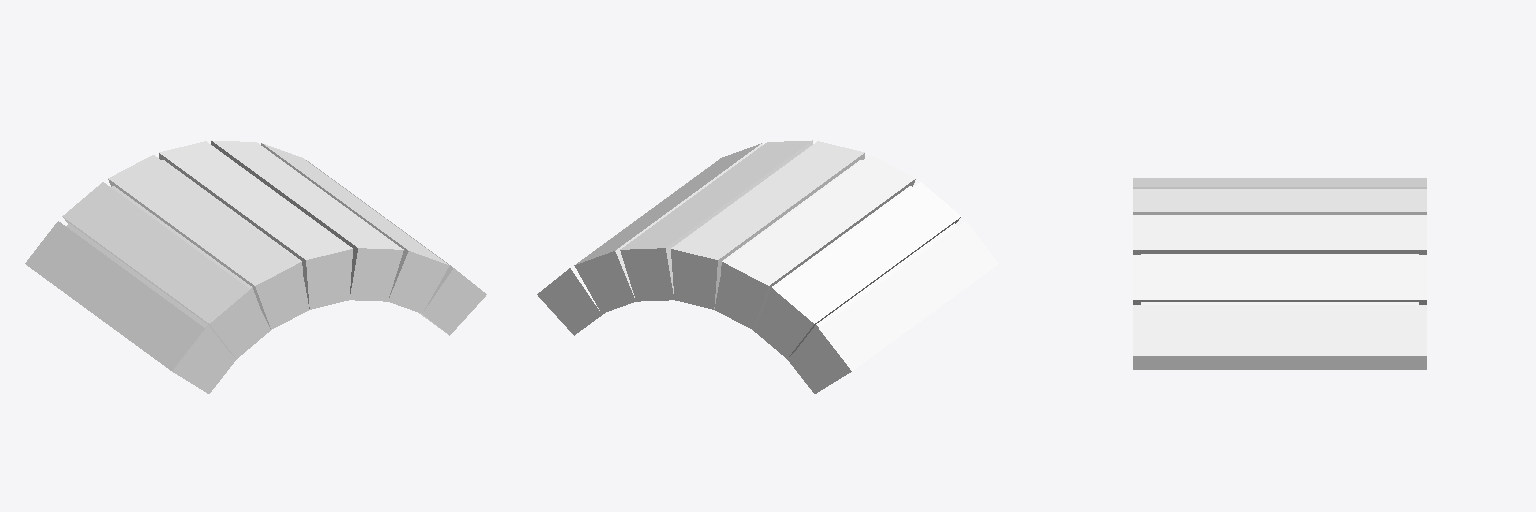
Rendered from generic_segmental_arch_1.obj.
3 renders of one model, left to right at view 1: azimuth 30°, elevation 25°; view 2: azimuth 150°, elevation 25°; view 3: azimuth 270°, elevation 25°, orthographic.
Visible parts, largest first — view 1: tube, tube.000; view 2: tube, tube.000; view 3: tube, tube.000.
Boxes of the visible parts, box(x1,y1,x2,y2) form: tube: box(25, 140, 486, 393); tube.000: box(66, 160, 302, 348); tube: box(537, 140, 998, 393); tube.000: box(721, 160, 957, 348); tube: box(1133, 178, 1426, 369); tube.000: box(1141, 254, 1418, 304).
Bounding box in the file's own units: 1.38 × 0.4643 × 1.12.